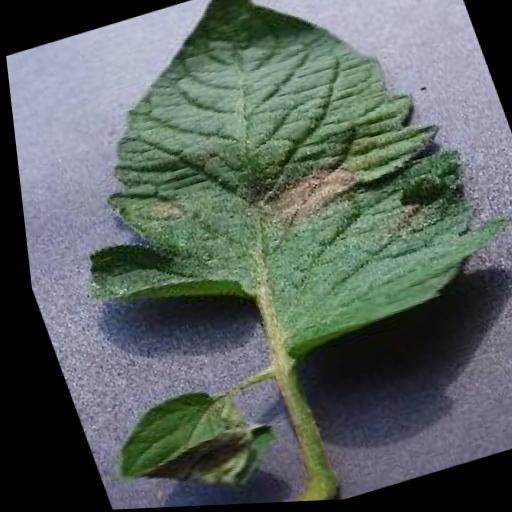Late Blight: (0, 0, 512, 410), (82, 365, 285, 510)
